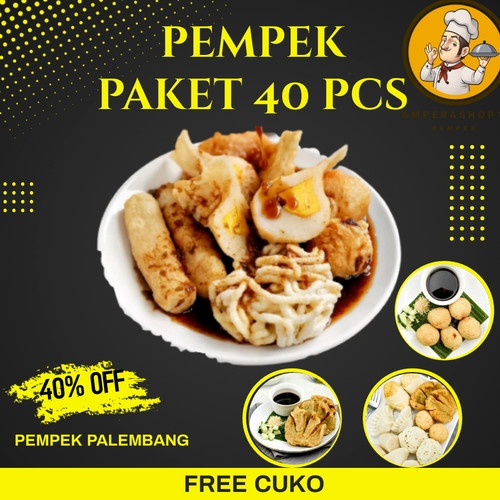pempek: (121, 124, 374, 347), (370, 372, 455, 462), (415, 298, 484, 351), (284, 395, 339, 445)
